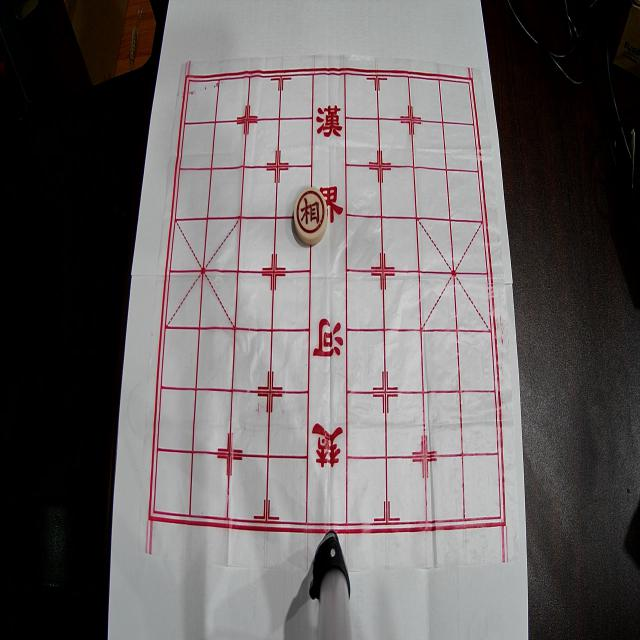red-elephant: (294, 188, 327, 245)
